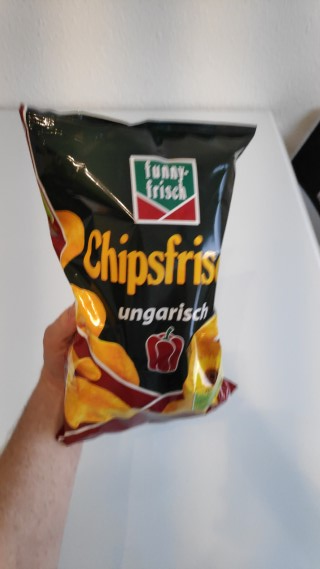chipsfrisch: (18, 100, 259, 449)
